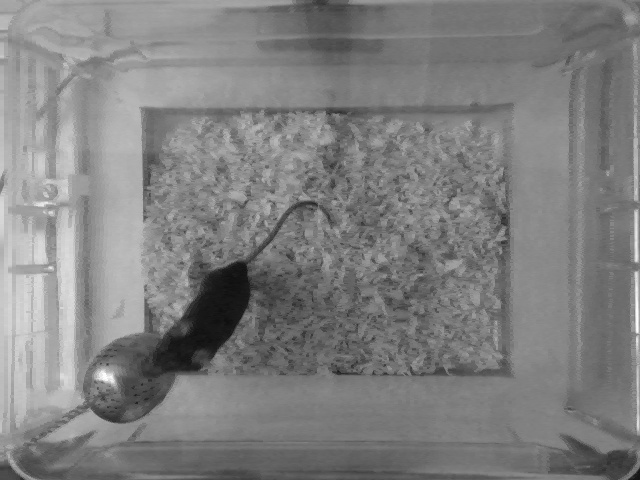mice: (146, 193, 330, 380)
